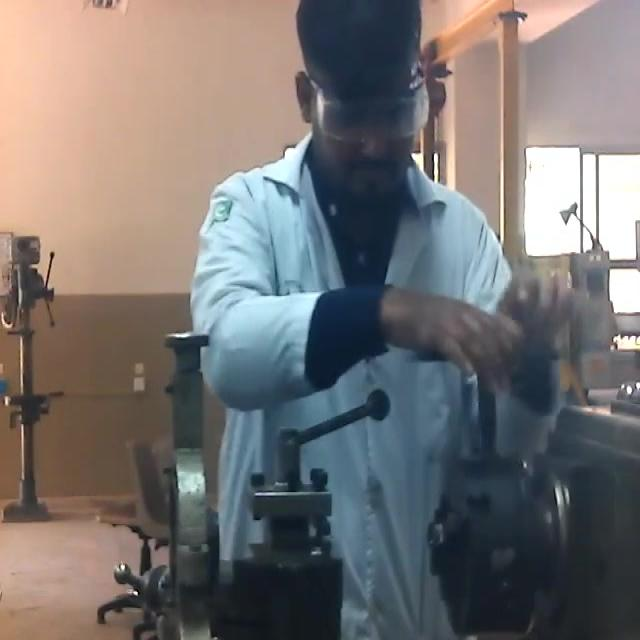googles: (312, 78, 432, 148)
labcoat: (190, 133, 561, 640)
